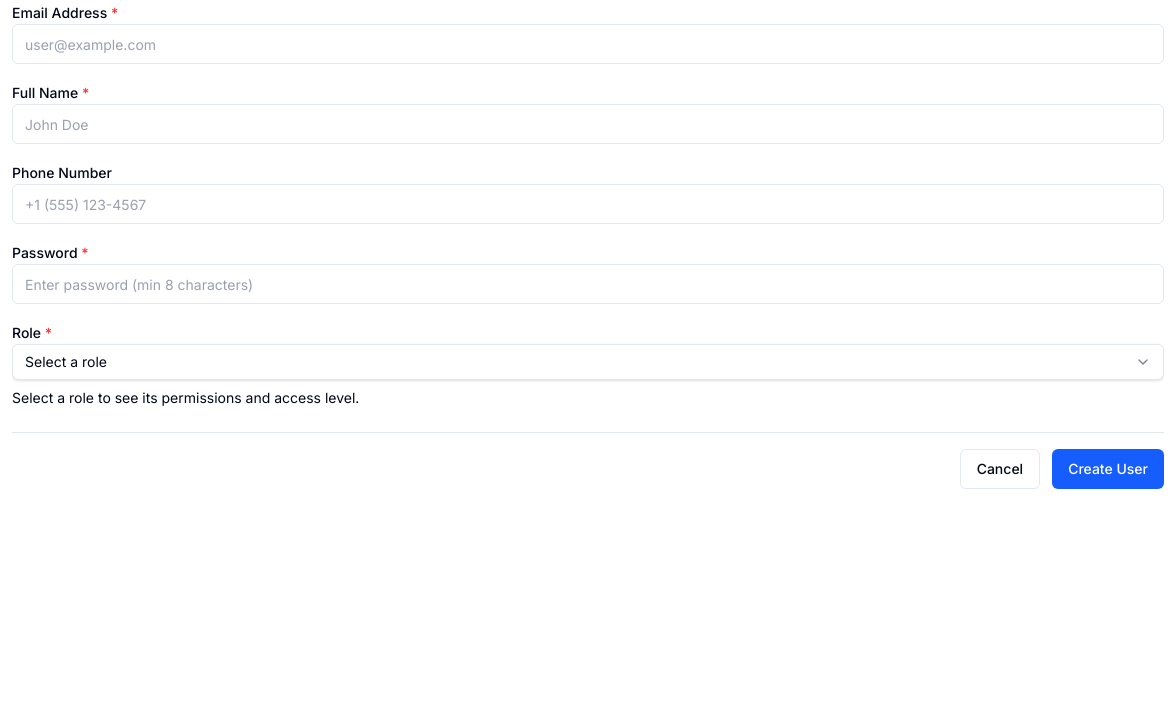
it: UserForm Component › Create Mode › should display validation errors for required fields when submitted empty
What coordinates should you click on to do the following:
click the button "Create User"
I would click on:
 (1108, 469)
Its box is [1052,449,1164,489].
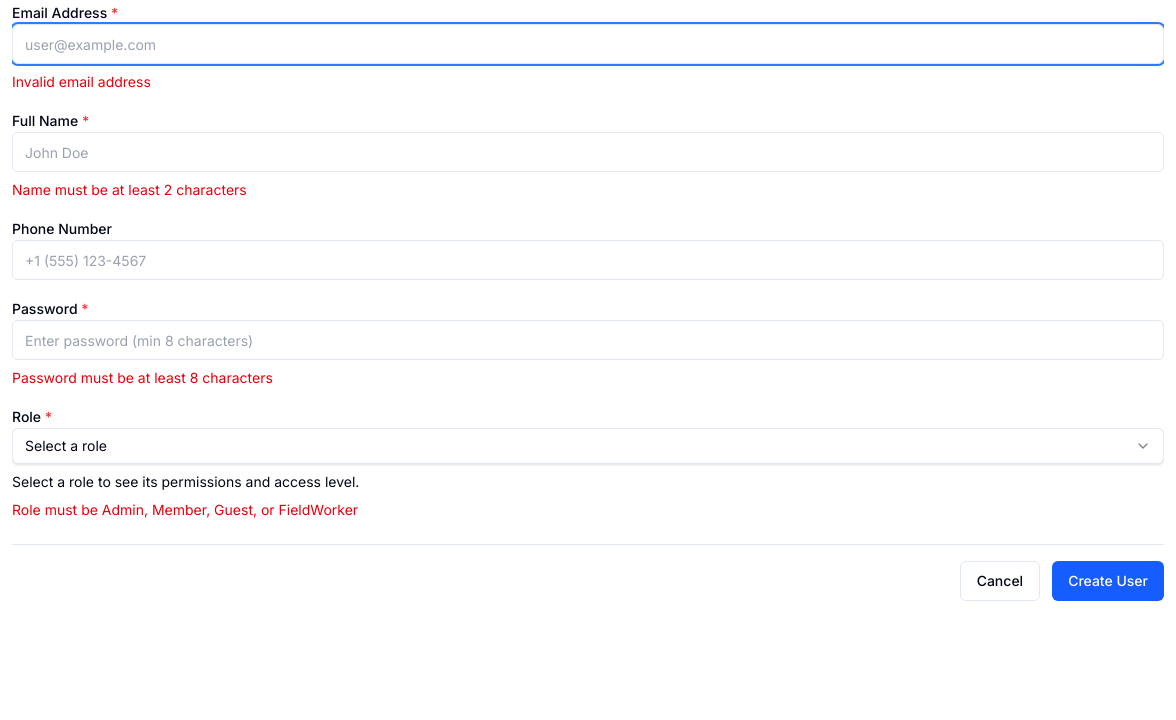
expect the text "Invalid email address" is shown: met, box [12,73,151,90]
expect the text "Name must be at least 2 characters" is shown: met, box [12,181,247,198]
expect the text "Password must be at least 8 characters" is shown: met, box [12,369,273,386]
